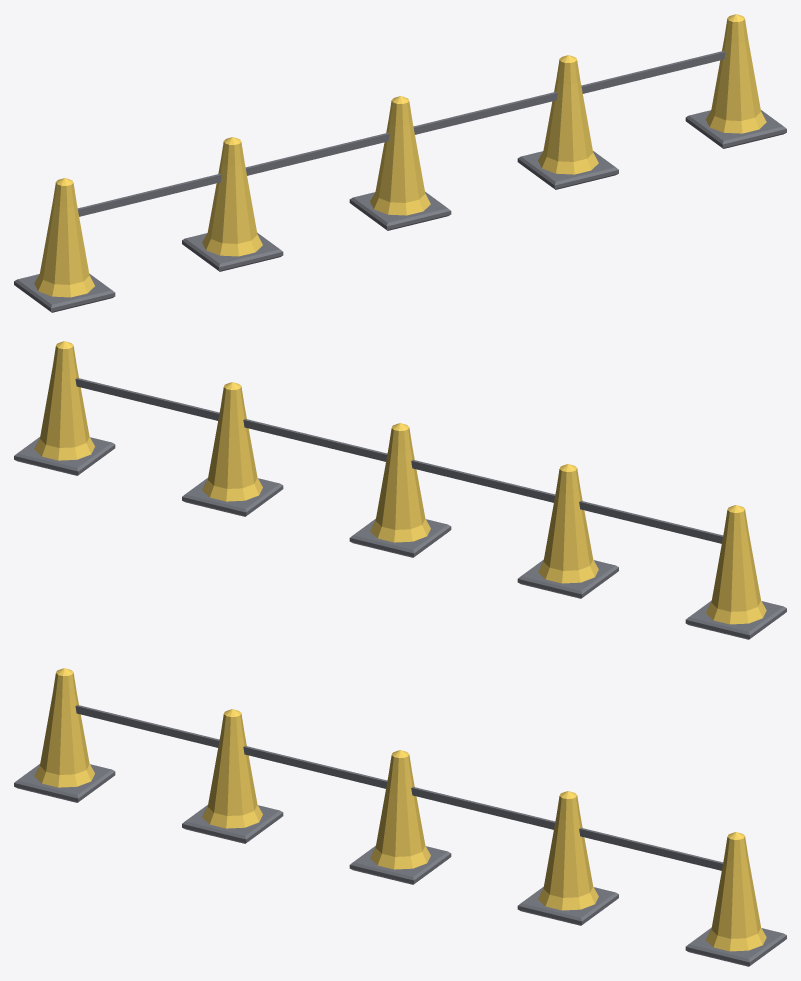
The model's file is cones.glb.
3 views of the same model, one above another, from view 1: azimuth 30°, elevation 25°; view 2: azimuth 150°, elevation 25°; view 3: azimuth 330°, elevation 25° (orthographic).
Visible parts, largest first — view 1: safety-cone-row; view 2: safety-cone-row; view 3: safety-cone-row.
Boxes of the visible parts, box(x1,y1,x2,y2) form: safety-cone-row: box(14, 14, 786, 312); safety-cone-row: box(14, 341, 786, 639); safety-cone-row: box(14, 668, 786, 966).
Bounding box in the file's own units: 5.26 × 0.7847 × 0.4598.
